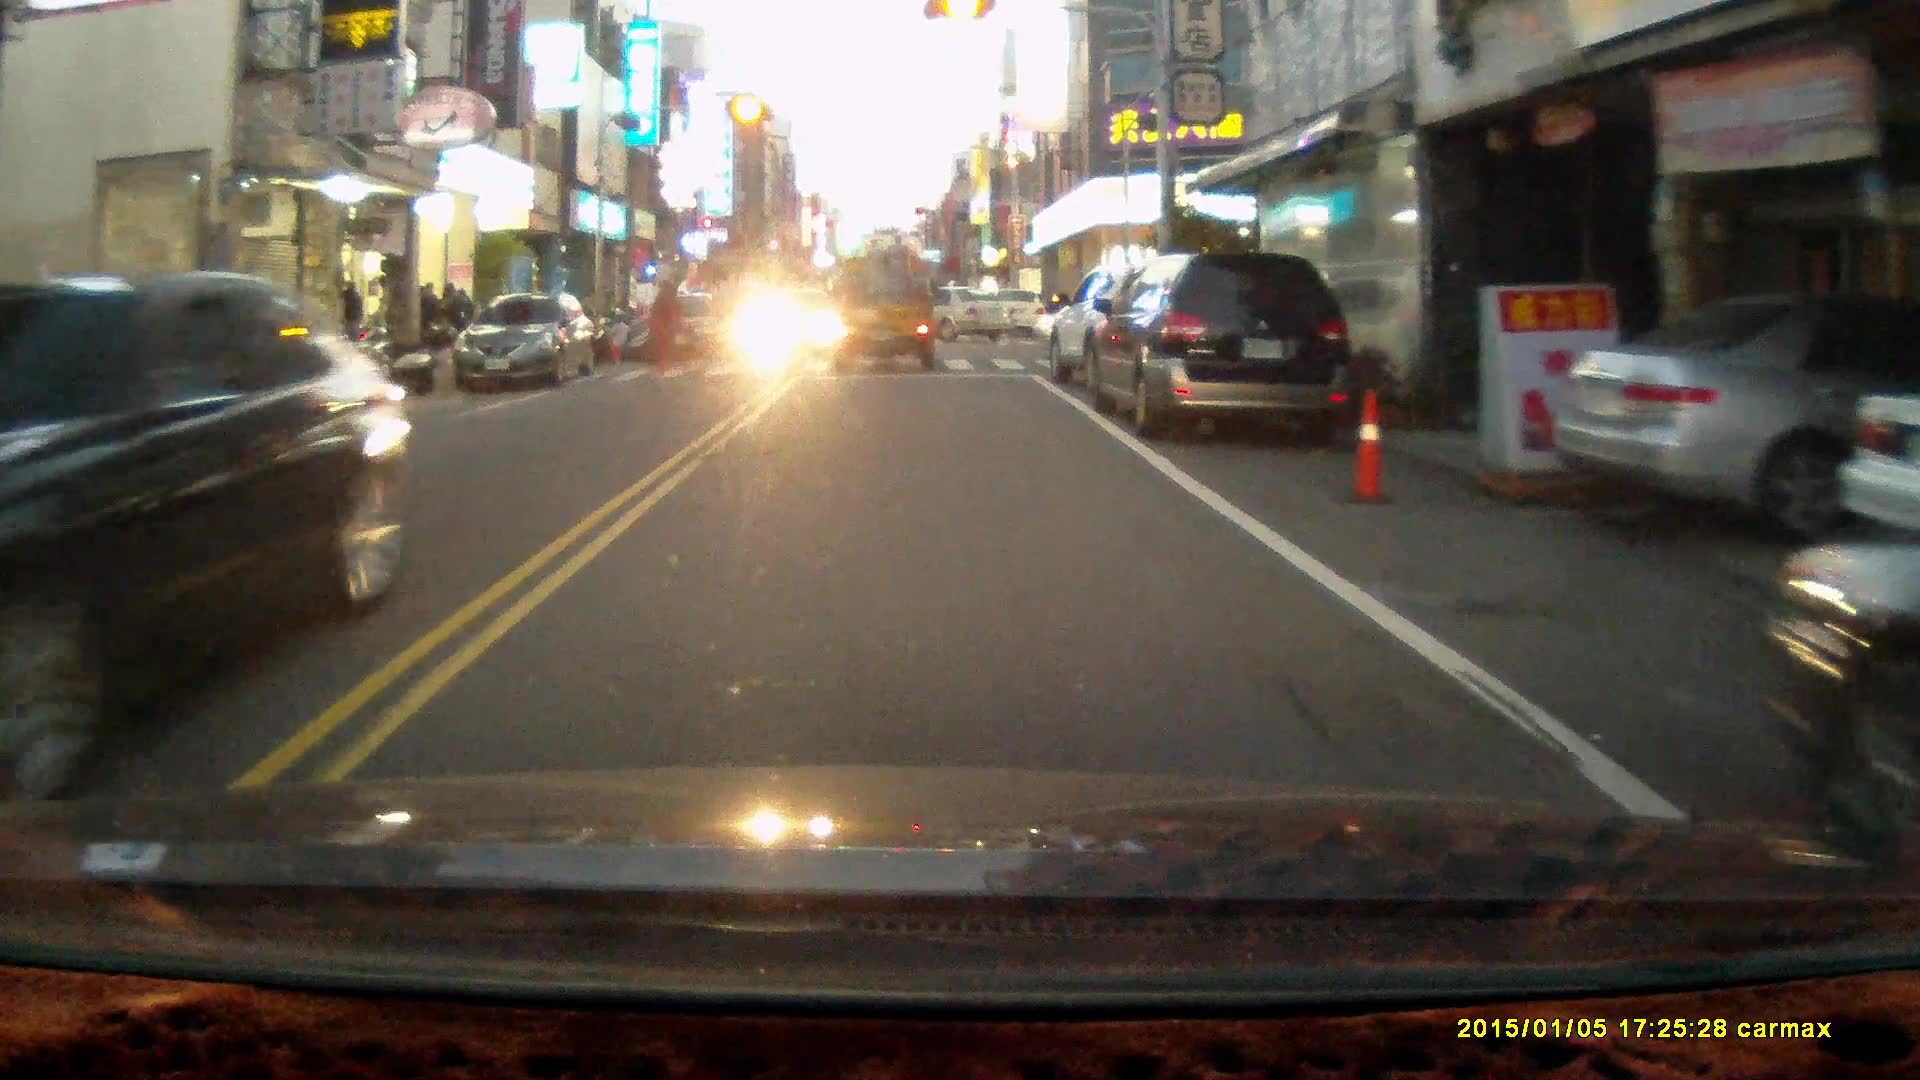pedestrian: (645, 275, 682, 378), (604, 316, 629, 369)
vehicle: (2, 273, 414, 767), (1552, 296, 1920, 530), (1084, 248, 1351, 445), (67, 325, 379, 435), (1046, 262, 1229, 410), (824, 236, 942, 381), (1834, 393, 1920, 547), (471, 298, 596, 395), (866, 288, 1012, 346), (642, 297, 735, 362)
